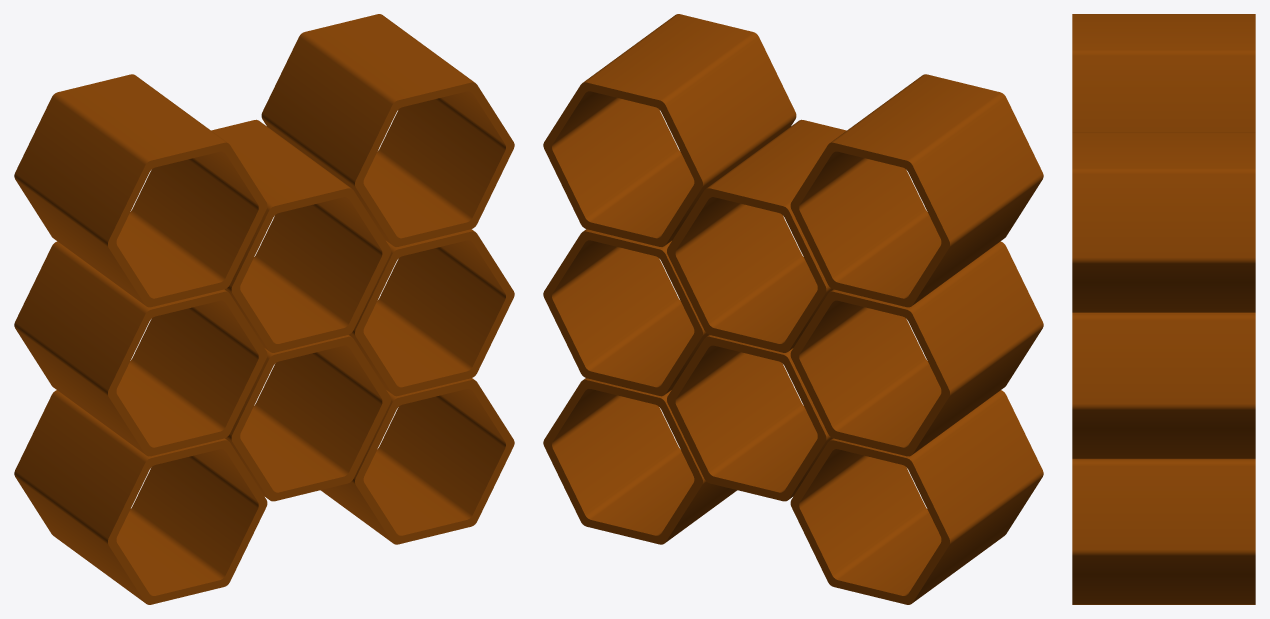
File: HoneyCombShelf.fbx
3 views of the same model, side by side, from view 1: azimuth 30°, elevation 25°; view 2: azimuth 150°, elevation 25°; view 3: azimuth 270°, elevation 25° (orthographic).
Visible parts, largest first — view 1: HoneyComb-6; view 2: HoneyComb-6; view 3: HoneyComb-6.
Boxes of the visible parts, box(x1,y1,x2,y2) form: HoneyComb-6: box(14, 14, 514, 604); HoneyComb-6: box(543, 14, 1043, 604); HoneyComb-6: box(1072, 14, 1255, 604).
Size of the model in its own units: 0.9047 by 0.9442 by 0.36.
